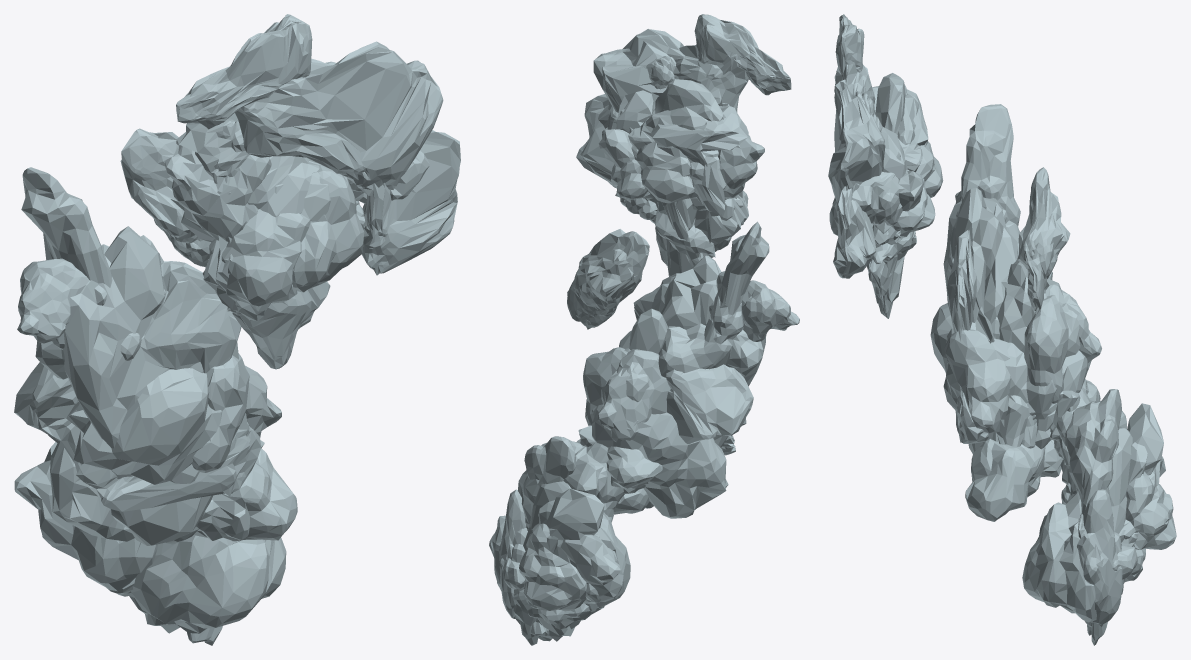
File: Cloud_Ring_03.fbx
3 renders of one model, left to right at view 1: azimuth 30°, elevation 25°; view 2: azimuth 150°, elevation 25°; view 3: azimuth 270°, elevation 25°, orthographic. The views are drawn at different scales.
Visible parts, largest first — view 1: Cloud_Ring_03; view 2: Cloud_Ring_03; view 3: Cloud_Ring_03.
Boxes of the visible parts, left/top/right/bottom form: Cloud_Ring_03: left=14, top=14, right=460, bottom=645; Cloud_Ring_03: left=489, top=14, right=799, bottom=645; Cloud_Ring_03: left=828, top=14, right=1176, bottom=645.
Size of the model in its own units: 60.65 by 120 by 64.42.
